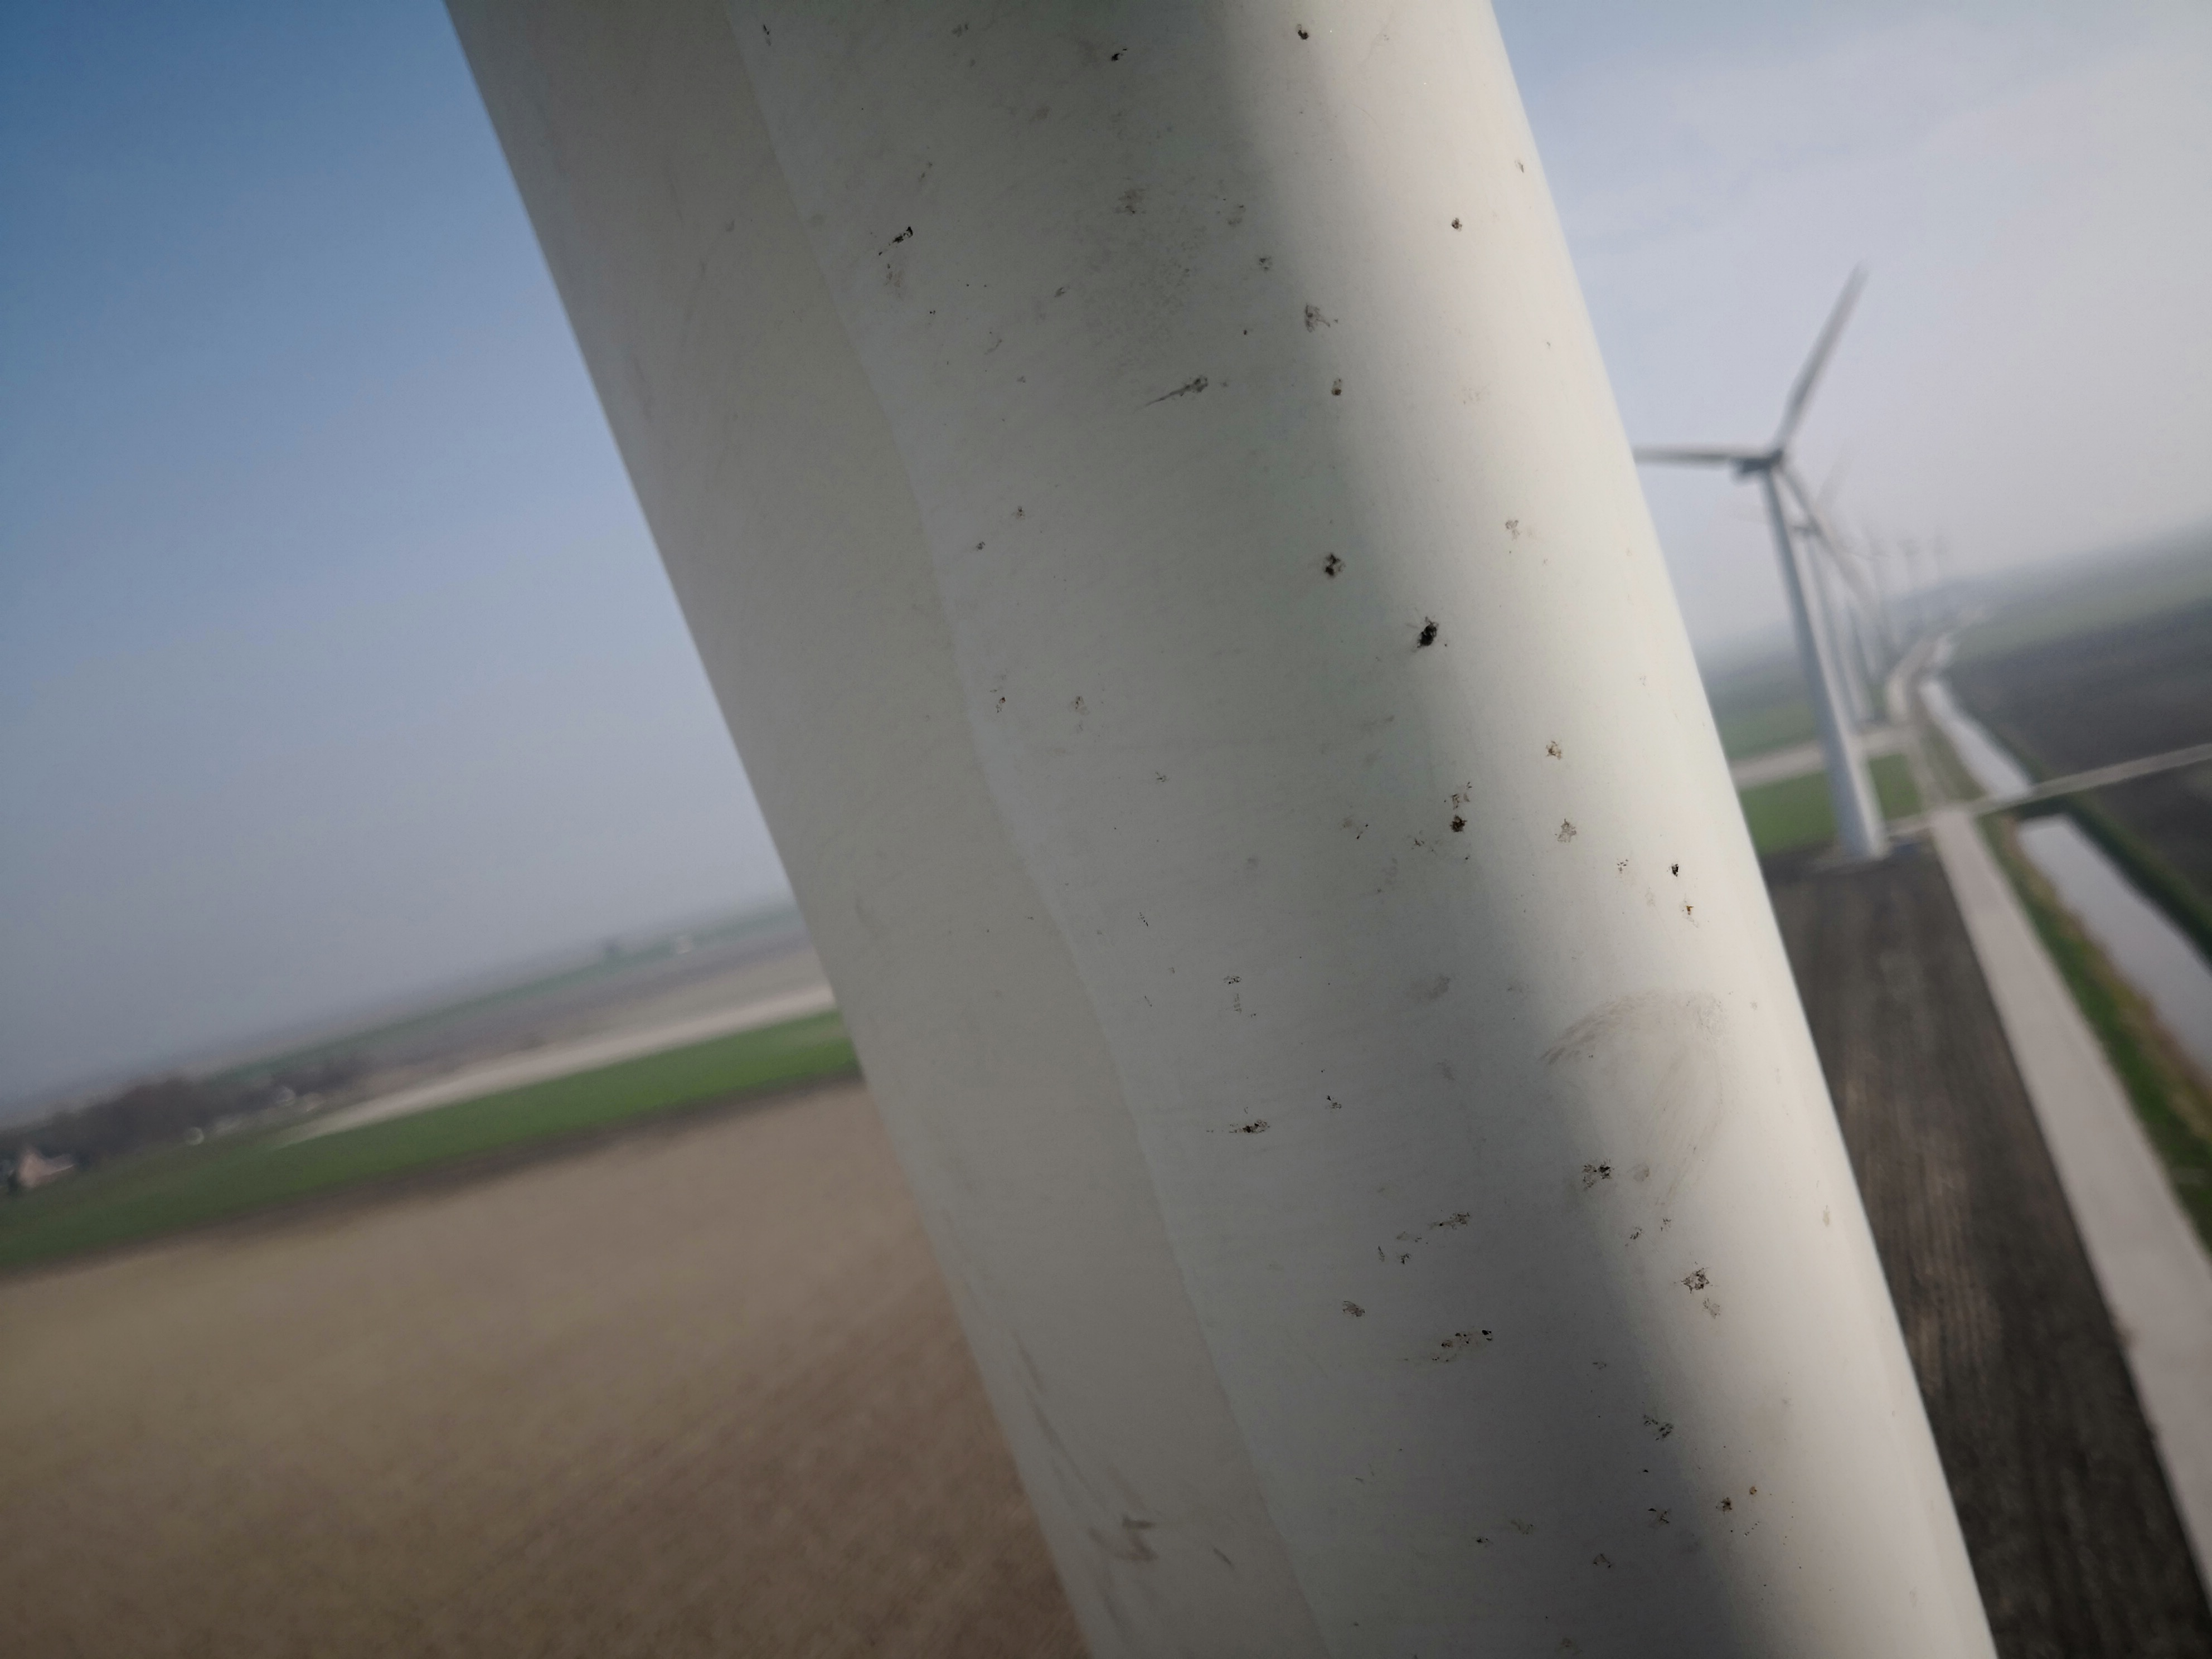Dirt: (1413, 617, 1442, 648)
